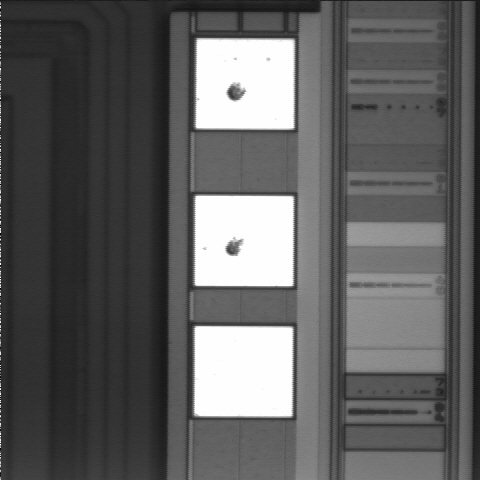pad: (196, 39, 294, 129), (195, 196, 293, 286), (195, 326, 293, 416)
